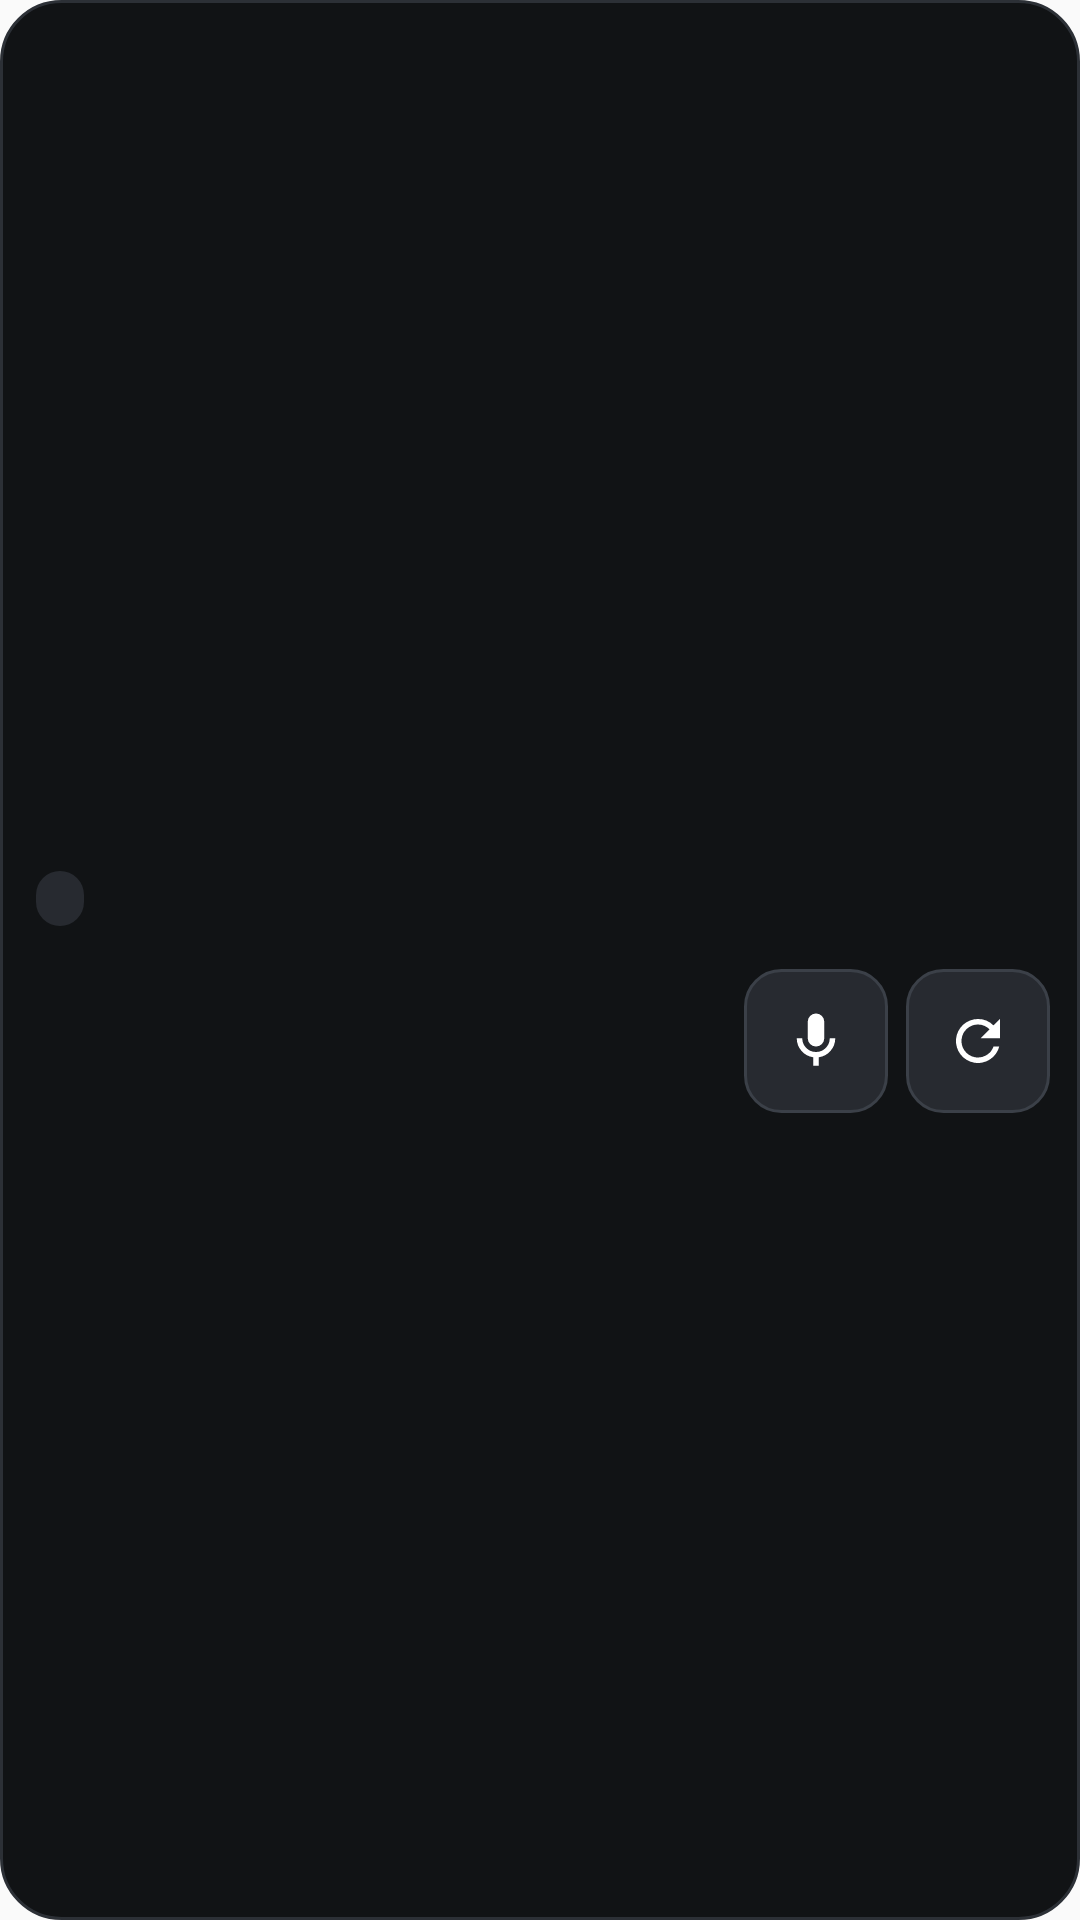

Icons on this 1080px×1920px Android screen, each with its box as bbox=(x1, y1, x2, y2):
mic: bbox=(796, 1013, 836, 1066)
refresh: bbox=(956, 1019, 1000, 1063)
